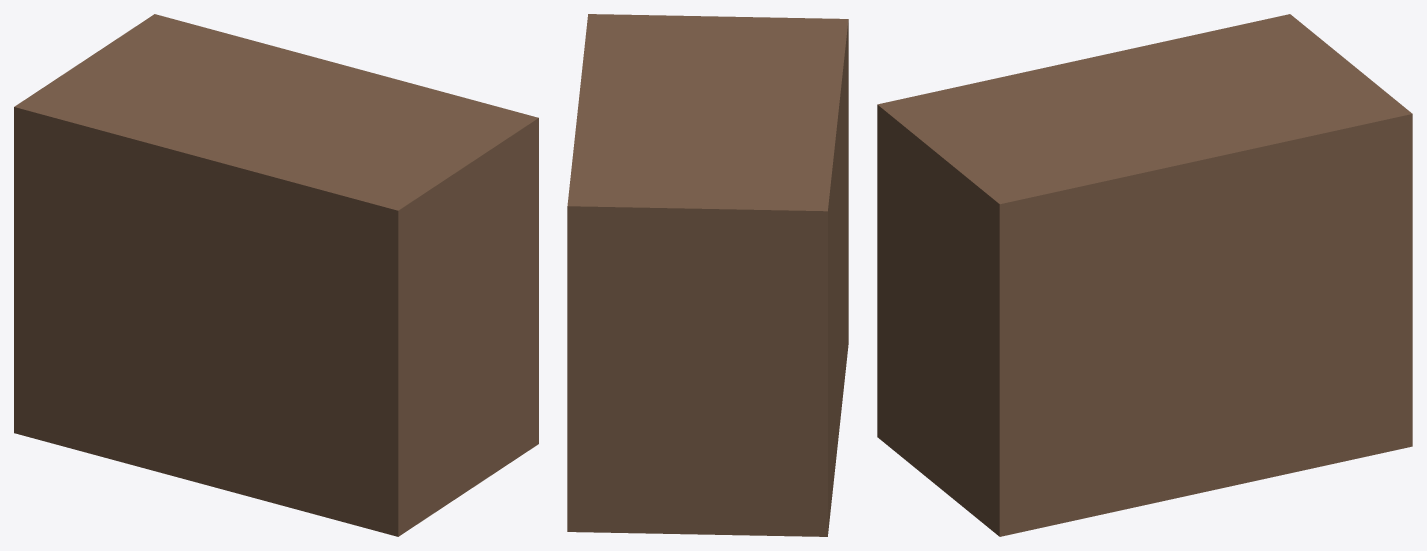
Rendered from Grote_Kattenburgerstraat_18.fbx.
3 renders of one model, left to right at view 1: azimuth 30°, elevation 25°; view 2: azimuth 150°, elevation 25°; view 3: azimuth 270°, elevation 25°, orthographic. The views are drawn at different scales.
Visible parts, largest first — view 1: Grote_Kattenburgerstraat_6_walls.002; view 2: Grote_Kattenburgerstraat_6_walls.002; view 3: Grote_Kattenburgerstraat_6_walls.002.
Part boxes in pixels (x1,y1,x2,y2): Grote_Kattenburgerstraat_6_walls.002: [14, 14, 538, 536]; Grote_Kattenburgerstraat_6_walls.002: [567, 14, 848, 536]; Grote_Kattenburgerstraat_6_walls.002: [877, 14, 1412, 536].
Size of the model in its own units: 1058 by 863 by 1258.
